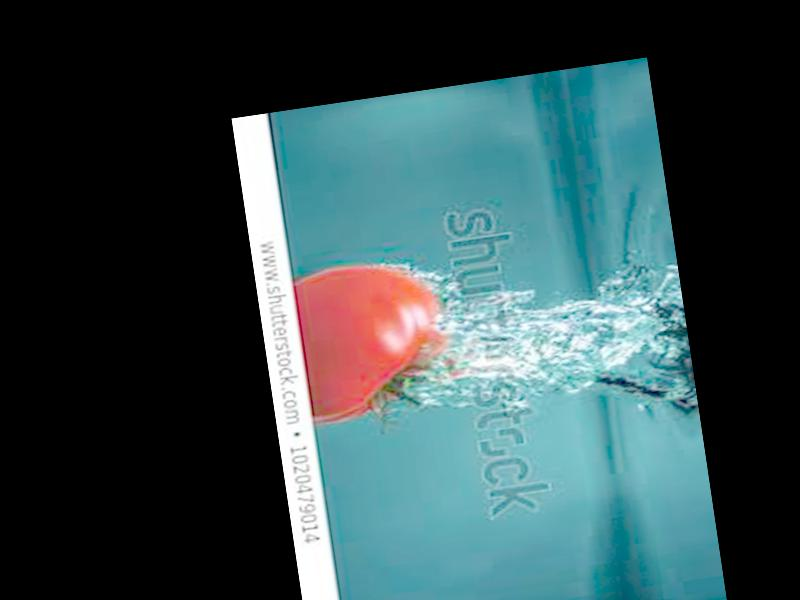Tomato: (290, 254, 455, 426)
